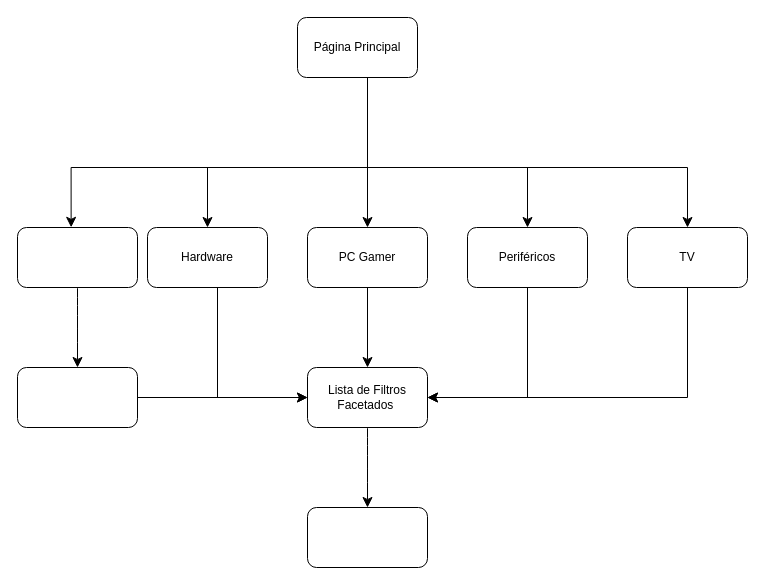
The diagram is 765 pixels wide and 585 high, and some of its shapes have lost their labels. The centre of each missing label's shape, as x and y in pixels:
Pesquisa por termo: (77,257)
Página do produto: (367,537)
Resultado da Pesquisa: (77,397)
